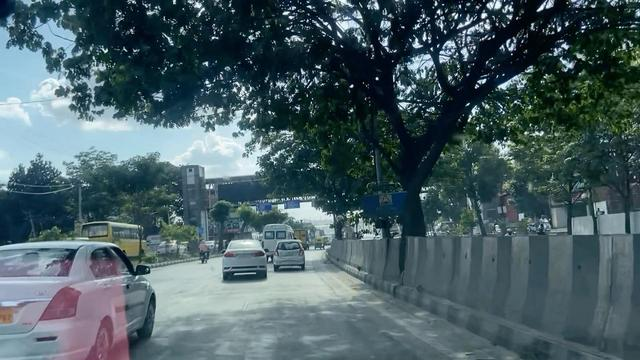LMV: (222, 238, 264, 274), (272, 239, 306, 270)
